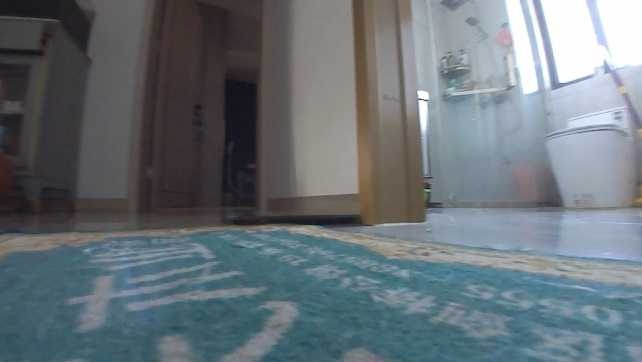blanket: (1, 219, 640, 360)
toilet: (540, 105, 636, 211)
